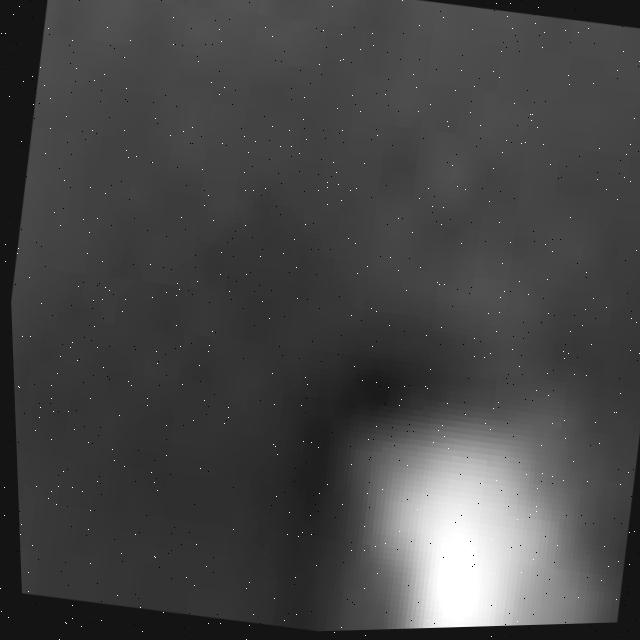person: (300, 247, 640, 634)
